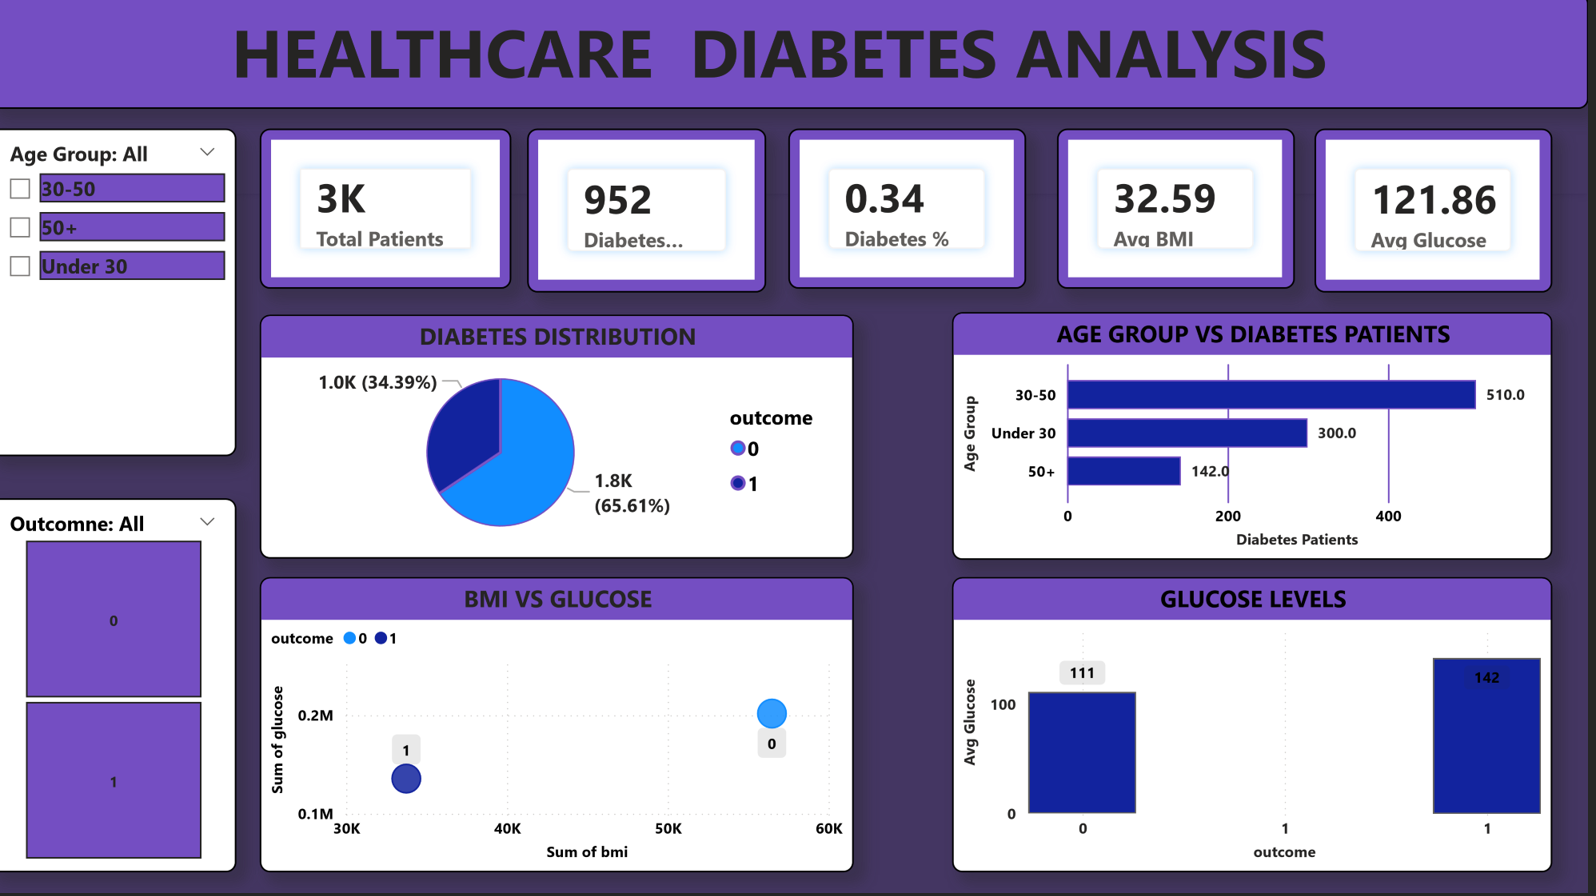

What the dashboard file says about the page in this screenshot:
{"tool":"powerbi","page":{"name":"Page 1","canvas":[1280,720],"ordinal":0},"visuals":[{"type":"cardVisual","fields":{"Data":["Healthcare-Diabetes.Total Patients"]},"box":[216.7,108.3,201.2,128],"z":0},{"type":"cardVisual","fields":{"Data":["Healthcare-Diabetes.Diabetes Patients"]},"box":[430.5,108.3,191.3,130.8],"z":1000},{"type":"cardVisual","fields":{"Data":["Healthcare-Diabetes.Diabetes %"]},"box":[640.1,108.3,189.9,128],"z":2000},{"type":"cardVisual","fields":{"Data":["Healthcare-Diabetes.Avg BMI"]},"box":[855.4,108.3,189.9,128],"z":3000},{"type":"cardVisual","fields":{"Data":["Healthcare-Diabetes.Avg Glucose"]},"box":[1060.8,108.3,189.9,130.8],"z":4000},{"type":"textbox","box":[0,0,1280.3,91.9],"z":5000},{"type":"pieChart","title":"DIABETES DISTRIBUTION","fields":{"Category":["Healthcare-Diabetes.outcome"],"Y":["CountNonNull(Healthcare-Diabetes.id)"]},"box":[216.7,257.5,475.5,195],"z":6000},{"type":"barChart","title":"AGE GROUP  VS DIABETES PATIENTS","fields":{"Category":["Healthcare-Diabetes.Age Group"],"Y":["Healthcare-Diabetes.Diabetes Patients"]},"box":[771,254.7,479.8,198.4],"z":7000},{"type":"scatterChart","title":"BMI VS GLUCOSE","fields":{"Series":["Healthcare-Diabetes.outcome"],"X":["Sum(Healthcare-Diabetes.bmi)"],"Y":["Sum(Healthcare-Diabetes.glucose)"]},"box":[216.7,467.1,475.5,236.4],"z":8000},{"type":"columnChart","title":"GLUCOSE LEVELS","fields":{"Category":["Healthcare-Diabetes.outcome"],"Y":["Healthcare-Diabetes.Avg Glucose"]},"box":[771,467.1,479.8,236.4],"z":9000},{"type":"slicer","fields":{"Values":["Healthcare-Diabetes.Age Group"]},"box":[0,108.3,198.4,261.7],"z":10000},{"type":"slicer","fields":{"Values":["Healthcare-Diabetes.outcome"]},"box":[0,403.8,198.4,299.7],"z":11000}]}

Visuals, with their boxes in screenshot pixels (x1, y1, x2, y2), scaled from the page's 1280x720 canvas onto the 1596x896 screenshot:
cardVisual - Healthcare-Diabetes.Total Patients: 270,135,521,294
cardVisual - Healthcare-Diabetes.Diabetes Patients: 537,135,775,298
cardVisual - Healthcare-Diabetes.Diabetes %: 798,135,1035,294
cardVisual - Healthcare-Diabetes.Avg BMI: 1067,135,1303,294
cardVisual - Healthcare-Diabetes.Avg Glucose: 1323,135,1559,298
textbox: 0,0,1595,114
"DIABETES DISTRIBUTION" pieChart: 270,320,863,563
"AGE GROUP  VS DIABETES PATIENTS" barChart: 961,317,1560,564
"BMI VS GLUCOSE" scatterChart: 270,581,863,875
"GLUCOSE LEVELS" columnChart: 961,581,1560,875
slicer - Healthcare-Diabetes.Age Group: 0,135,247,460
slicer - Healthcare-Diabetes.outcome: 0,503,247,875
